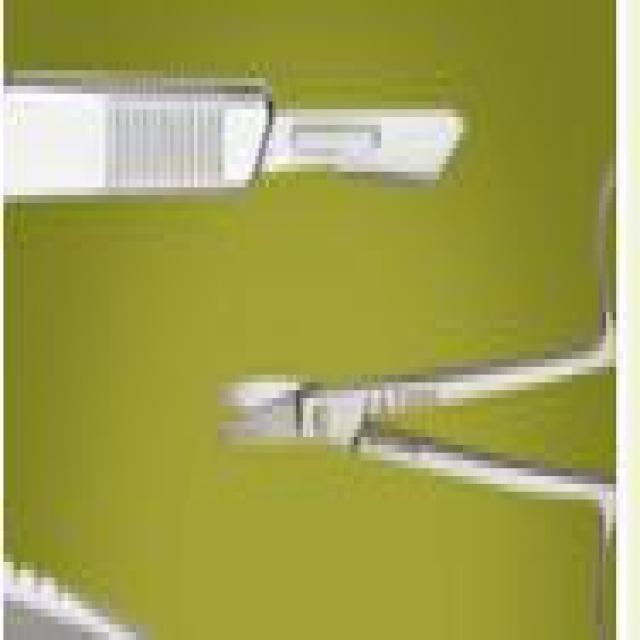Iris: (214, 156, 616, 640)
Scalpel: (10, 62, 473, 211)
